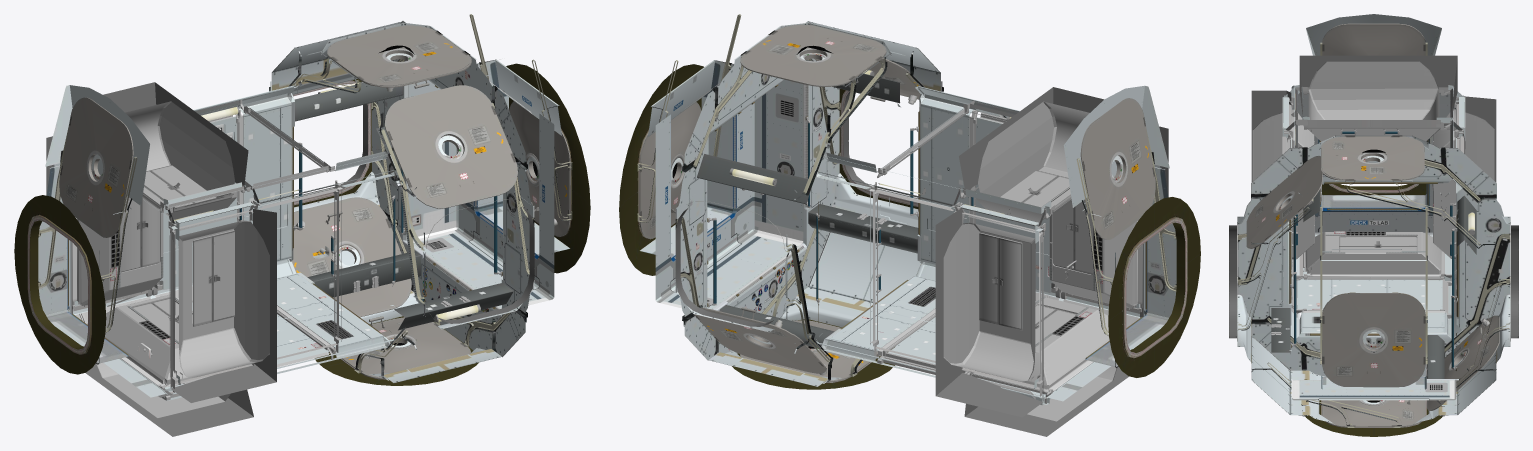
The model's file is iss-node2.glb.
The picture shows the model from 3 angles, left to right: view 1: azimuth 30°, elevation 25°; view 2: azimuth 150°, elevation 25°; view 3: azimuth 270°, elevation 25°; orthographic projection. The views are drawn at different scales.
Visible parts, largest first — view 1: Node2_Int_Metals, Node2_Int_Rack.NDR, Node2_Int_Bulkhead.AFT, Node2_Int_Metal_Hatch_Stbd, Node2_Int_Rack.SBD, Node2_Int_Rack.PRT, Node2_Int_Hub.AFT, Node2_CrrQtr_NoLookum, Node2_Int_Rack.ZTH, Node2_Int_Bulkhead.FWD, Node2_Int_Metal_Hatch_Aft, Node2_Int_Metal_Hatch_Port (+15 smaller); view 2: Node2_Int_Metals, Node2_Int_Bulkhead.AFT, Node2_Int_Hub.AFT, Node2_Int_Rack.NDR, Node2_Int_Rack.PRT, Node2_Int_Rack.SBD, Node2_Int_Hub.SBD, Node2_Int_Rack.ZTH, Node2_CrrQtr_NoLookum, Node2_Int_Bulkhead.FWD, Node2_Int_Metal_Hatch_Aft, Node2_Int_Metal_Hatch_Zenith (+15 smaller); view 3: Node2_Int_Hub.FWD, Node2_Int_Metals, Node2_Int_Rack.ZTH, Node2_Int_Rack.NDR, Node2_Int_Metal_Hatch_Fwd_Closed, Node2_Int_Bulkhead.FWD, Node2_CrrQtr_NoLookum, Node2_Int_Metal_Hatch_Zenith, Node2_Int_Hub.SBD, Node2_Int_Rack.PRT, Node2_Int_Bulkhead.AFT, Node2_Int_Metal_Hatch_Stbd (+10 smaller).
Part boxes in pixels (<box>): Node2_Int_Metals: <box>14,14,590,400</box>; Node2_Int_Rack.NDR: <box>73,258,395,417</box>; Node2_Int_Bulkhead.AFT: <box>408,59,571,308</box>; Node2_Int_Metal_Hatch_Stbd: <box>384,85,517,208</box>; Node2_Int_Rack.SBD: <box>169,174,393,384</box>; Node2_Int_Rack.PRT: <box>72,97,291,306</box>; Node2_Int_Hub.AFT: <box>372,21,534,357</box>; Node2_CrrQtr_NoLookum: <box>46,82,276,436</box>; Node2_Int_Rack.ZTH: <box>125,85,395,229</box>; Node2_Int_Bulkhead.FWD: <box>38,85,167,397</box>; Node2_Int_Metal_Hatch_Aft: <box>59,97,133,237</box>; Node2_Int_Metal_Hatch_Port: <box>292,197,411,317</box>; Node2_Int_Metals: <box>619,14,1200,403</box>; Node2_Int_Bulkhead.AFT: <box>638,60,803,309</box>; Node2_Int_Hub.AFT: <box>675,21,839,360</box>; Node2_Int_Rack.NDR: <box>816,261,1140,421</box>; Node2_Int_Rack.PRT: <box>817,176,1043,388</box>; Node2_Int_Rack.SBD: <box>921,98,1142,309</box>; Node2_Int_Hub.SBD: <box>782,173,920,327</box>; Node2_Int_Rack.ZTH: <box>815,86,1089,231</box>; Node2_CrrQtr_NoLookum: <box>935,87,1168,436</box>; Node2_Int_Bulkhead.FWD: <box>1046,85,1176,401</box>; Node2_Int_Metal_Hatch_Aft: <box>1080,98,1155,239</box>; Node2_Int_Metal_Hatch_Zenith: <box>740,24,886,86</box>; Node2_Int_Hub.FWD: <box>1237,135,1510,376</box>; Node2_Int_Metals: <box>1229,42,1518,436</box>; Node2_Int_Rack.ZTH: <box>1284,61,1463,187</box>; Node2_Int_Rack.NDR: <box>1290,231,1462,338</box>; Node2_Int_Metal_Hatch_Fwd_Closed: <box>1322,293,1425,387</box>; Node2_Int_Bulkhead.FWD: <box>1291,14,1456,236</box>; Node2_CrrQtr_NoLookum: <box>1251,55,1496,312</box>; Node2_Int_Metal_Hatch_Zenith: <box>1321,136,1424,180</box>; Node2_Int_Hub.SBD: <box>1237,294,1334,424</box>; Node2_Int_Rack.PRT: <box>1433,97,1494,294</box>; Node2_Int_Bulkhead.AFT: <box>1291,249,1456,400</box>; Node2_Int_Metal_Hatch_Stbd: <box>1246,156,1322,248</box>.
Bounding box in the file's own units: 61.81 × 39.92 × 37.6.
Materials: 5 (5 with a texture image).
